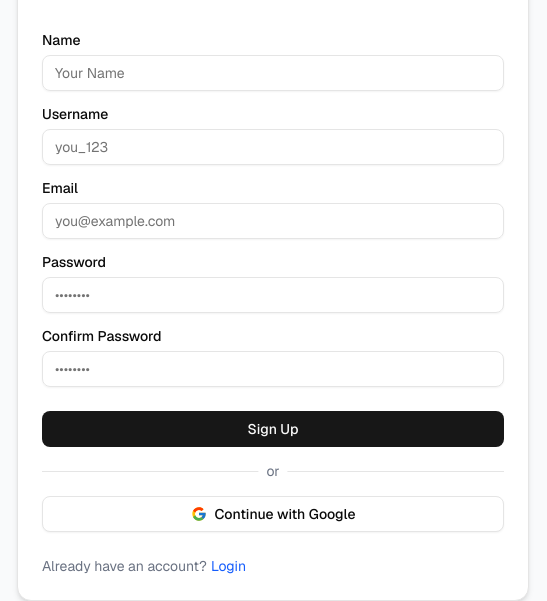
RegisterForm Component › shows error when Google sign up fails
(page scrolled)
Click the button "Continue with Google" at (273, 514), box x1=42 y1=496 x2=504 y2=532
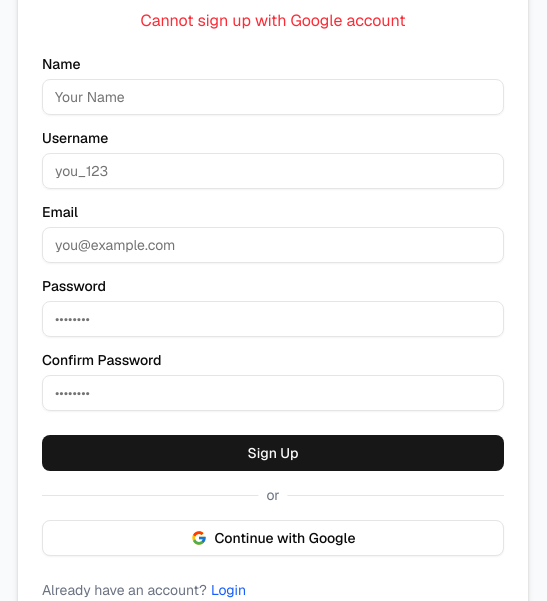
Expected: the heading "Cannot sign up with Google account" is shown, x1=140 y1=9 x2=406 y2=33
